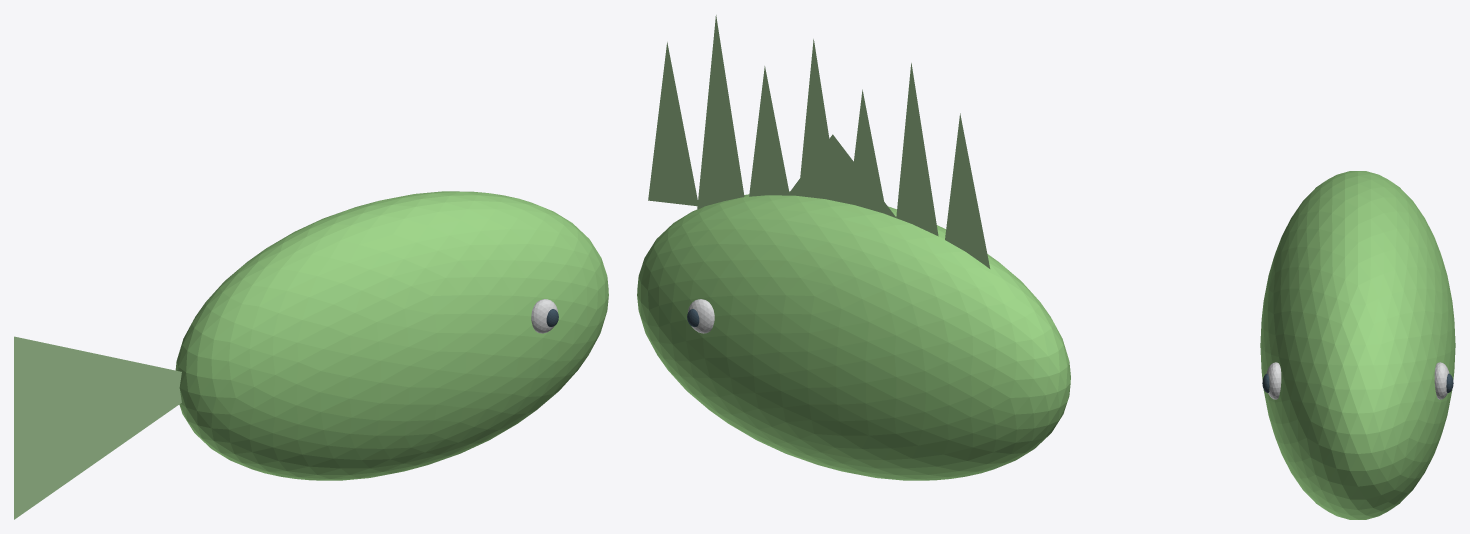
The picture shows the model from 3 angles, left to right: view 1: azimuth 30°, elevation 25°; view 2: azimuth 150°, elevation 25°; view 3: azimuth 270°, elevation 25°; orthographic projection. The views are drawn at different scales.
Parts seen in each view (by area): view 1: lionfish_00, lionfish_01; view 2: lionfish_00, lionfish_12, lionfish_13, lionfish_08, lionfish_10, lionfish_07, lionfish_11, lionfish_02, lionfish_09; view 3: lionfish_00, lionfish_03, lionfish_05.
Boxes of the visible parts, x1,y1,x2,y2 form: lionfish_00: (175,191,608,480); lionfish_01: (14,336,181,519); lionfish_00: (637,191,1070,480); lionfish_12: (697,15,744,209); lionfish_13: (648,42,697,206); lionfish_08: (896,63,938,236); lionfish_10: (798,39,839,201); lionfish_07: (945,113,990,268); lionfish_11: (749,66,789,196); lionfish_02: (787,134,896,218); lionfish_09: (849,89,886,214); lionfish_00: (1260,171,1455,519); lionfish_03: (1434,362,1449,399); lionfish_05: (1266,362,1281,399).
Bounding box in the file's own units: 2.78 × 1.89 × 0.76.
